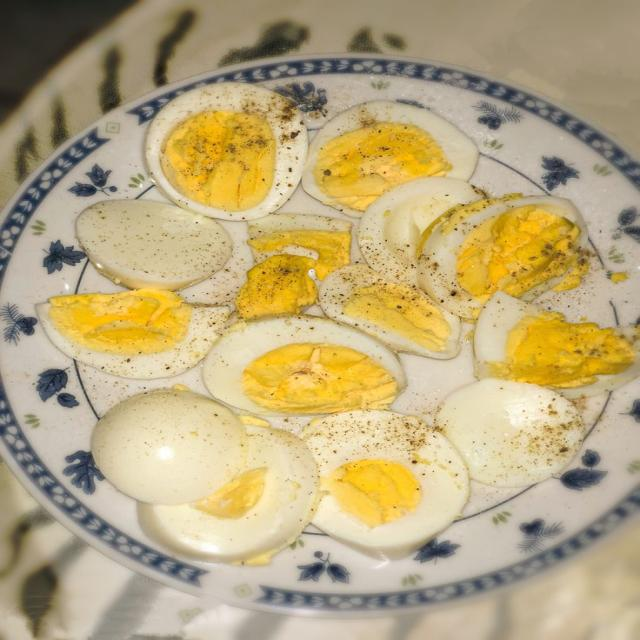eggs: (104, 92, 640, 558)
